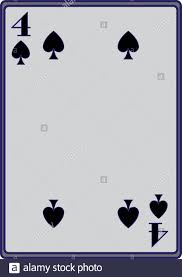four of spades: (5, 7, 178, 253)
